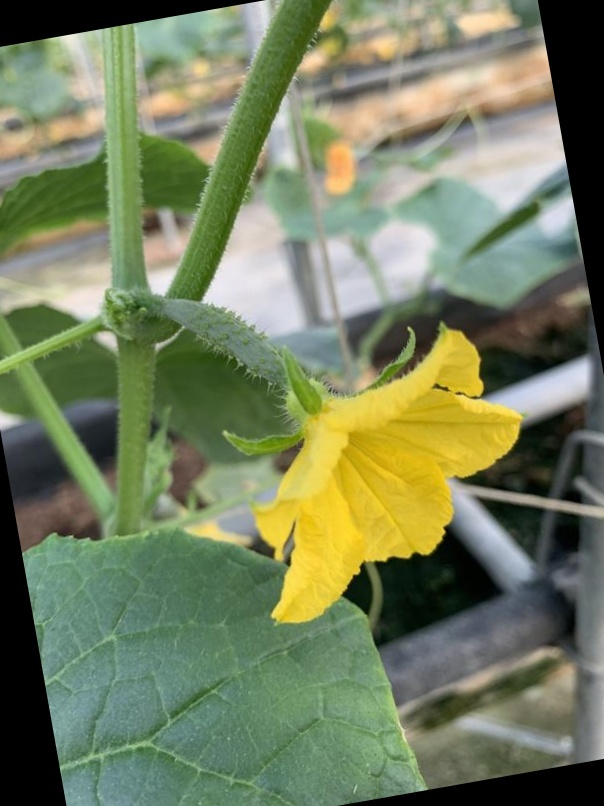flowering: (153, 244, 523, 610)
